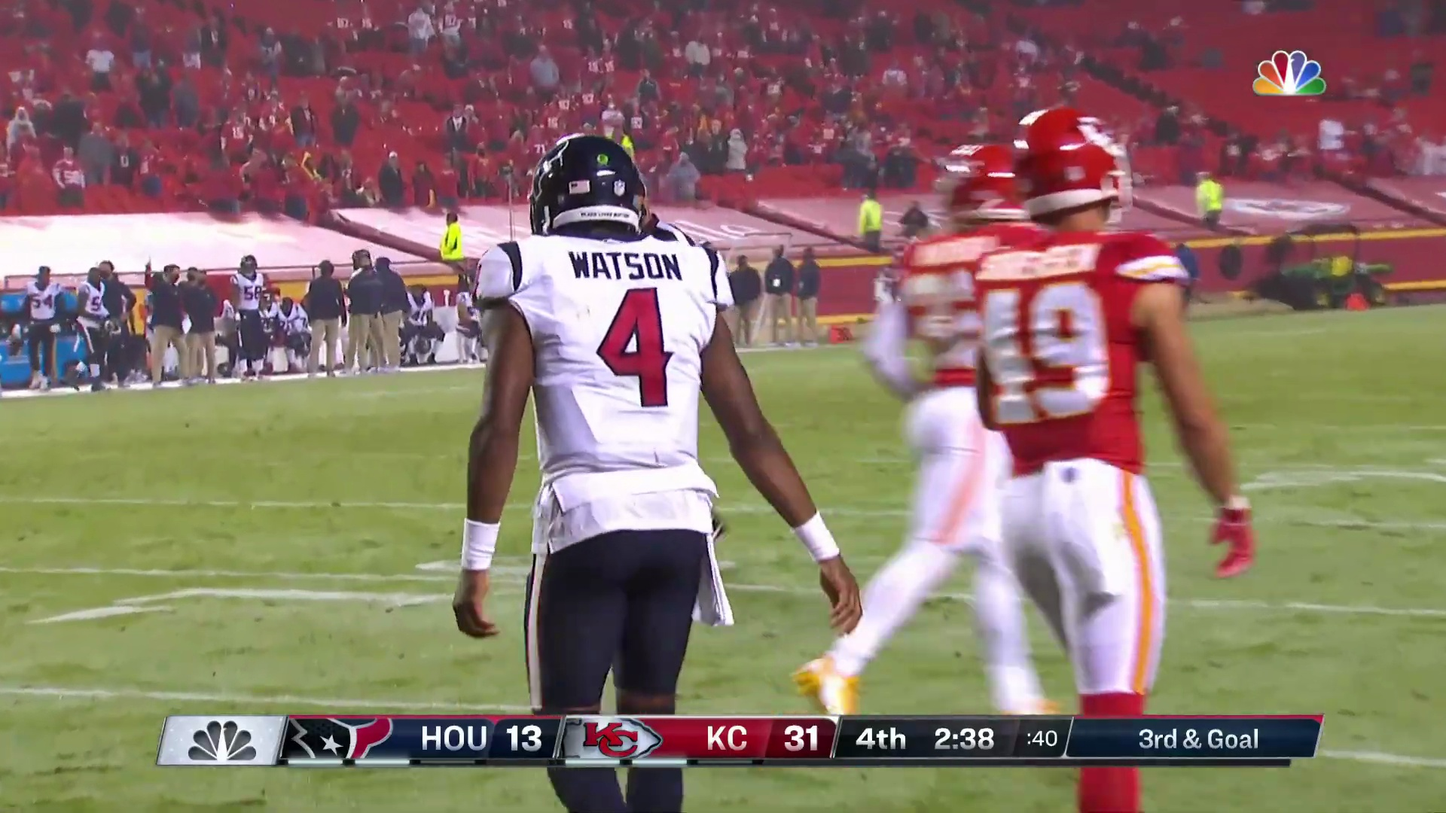Player: (444, 148, 870, 685), (959, 183, 1252, 722)
